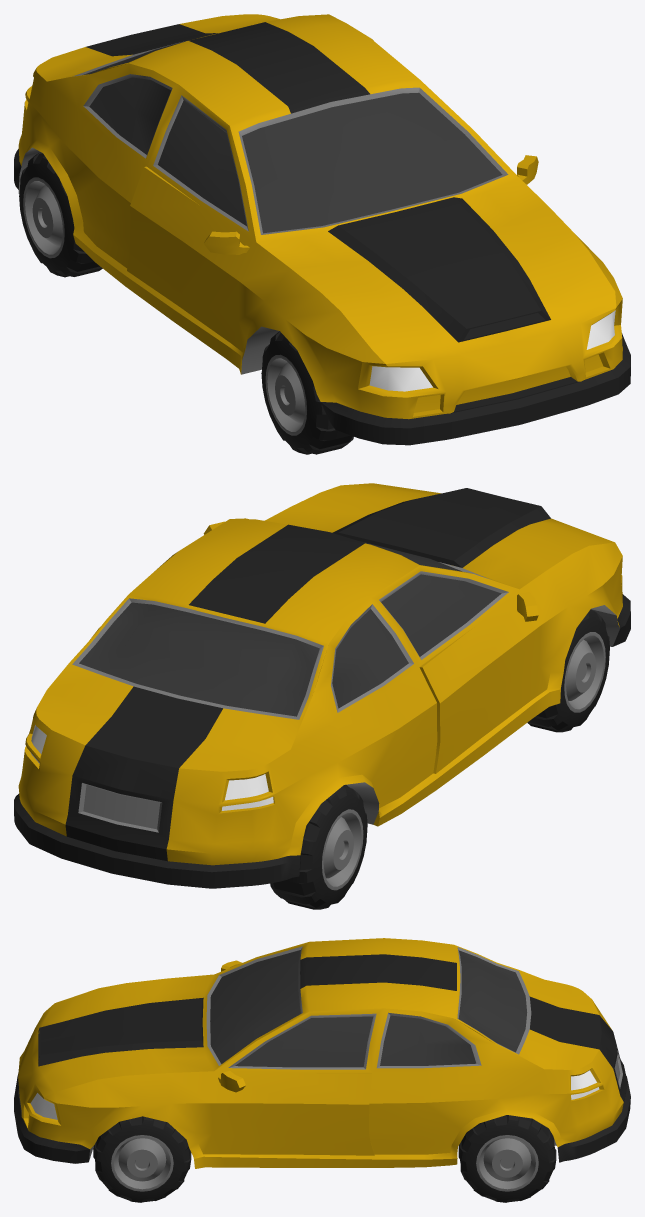
File: hero-coupe.glb
3 renders of one model, top to bottom at view 1: azimuth 30°, elevation 25°; view 2: azimuth 150°, elevation 25°; view 3: azimuth 270°, elevation 25°, orthographic. The views are drawn at different scales.
Visible parts, largest first — view 1: Sports, FrontWheel_R, BackWheels; view 2: Sports, BackWheels, FrontWheel_R; view 3: Sports, BackWheels, FrontWheel_L.
Part boxes in pixels (x1,y1,x2,y2): Sports: (14,14,630,445); FrontWheel_R: (261,331,353,454); BackWheels: (19,152,102,277); Sports: (14,483,630,888); BackWheels: (270,784,367,909); FrontWheel_R: (527,609,609,732); Sports: (14,938,630,1168); BackWheels: (458,1115,556,1202); FrontWheel_L: (93,1116,191,1202).
Bounding box in the file's own units: 2.67 × 1.86 × 5.66.
2 materials, 1 textured.
